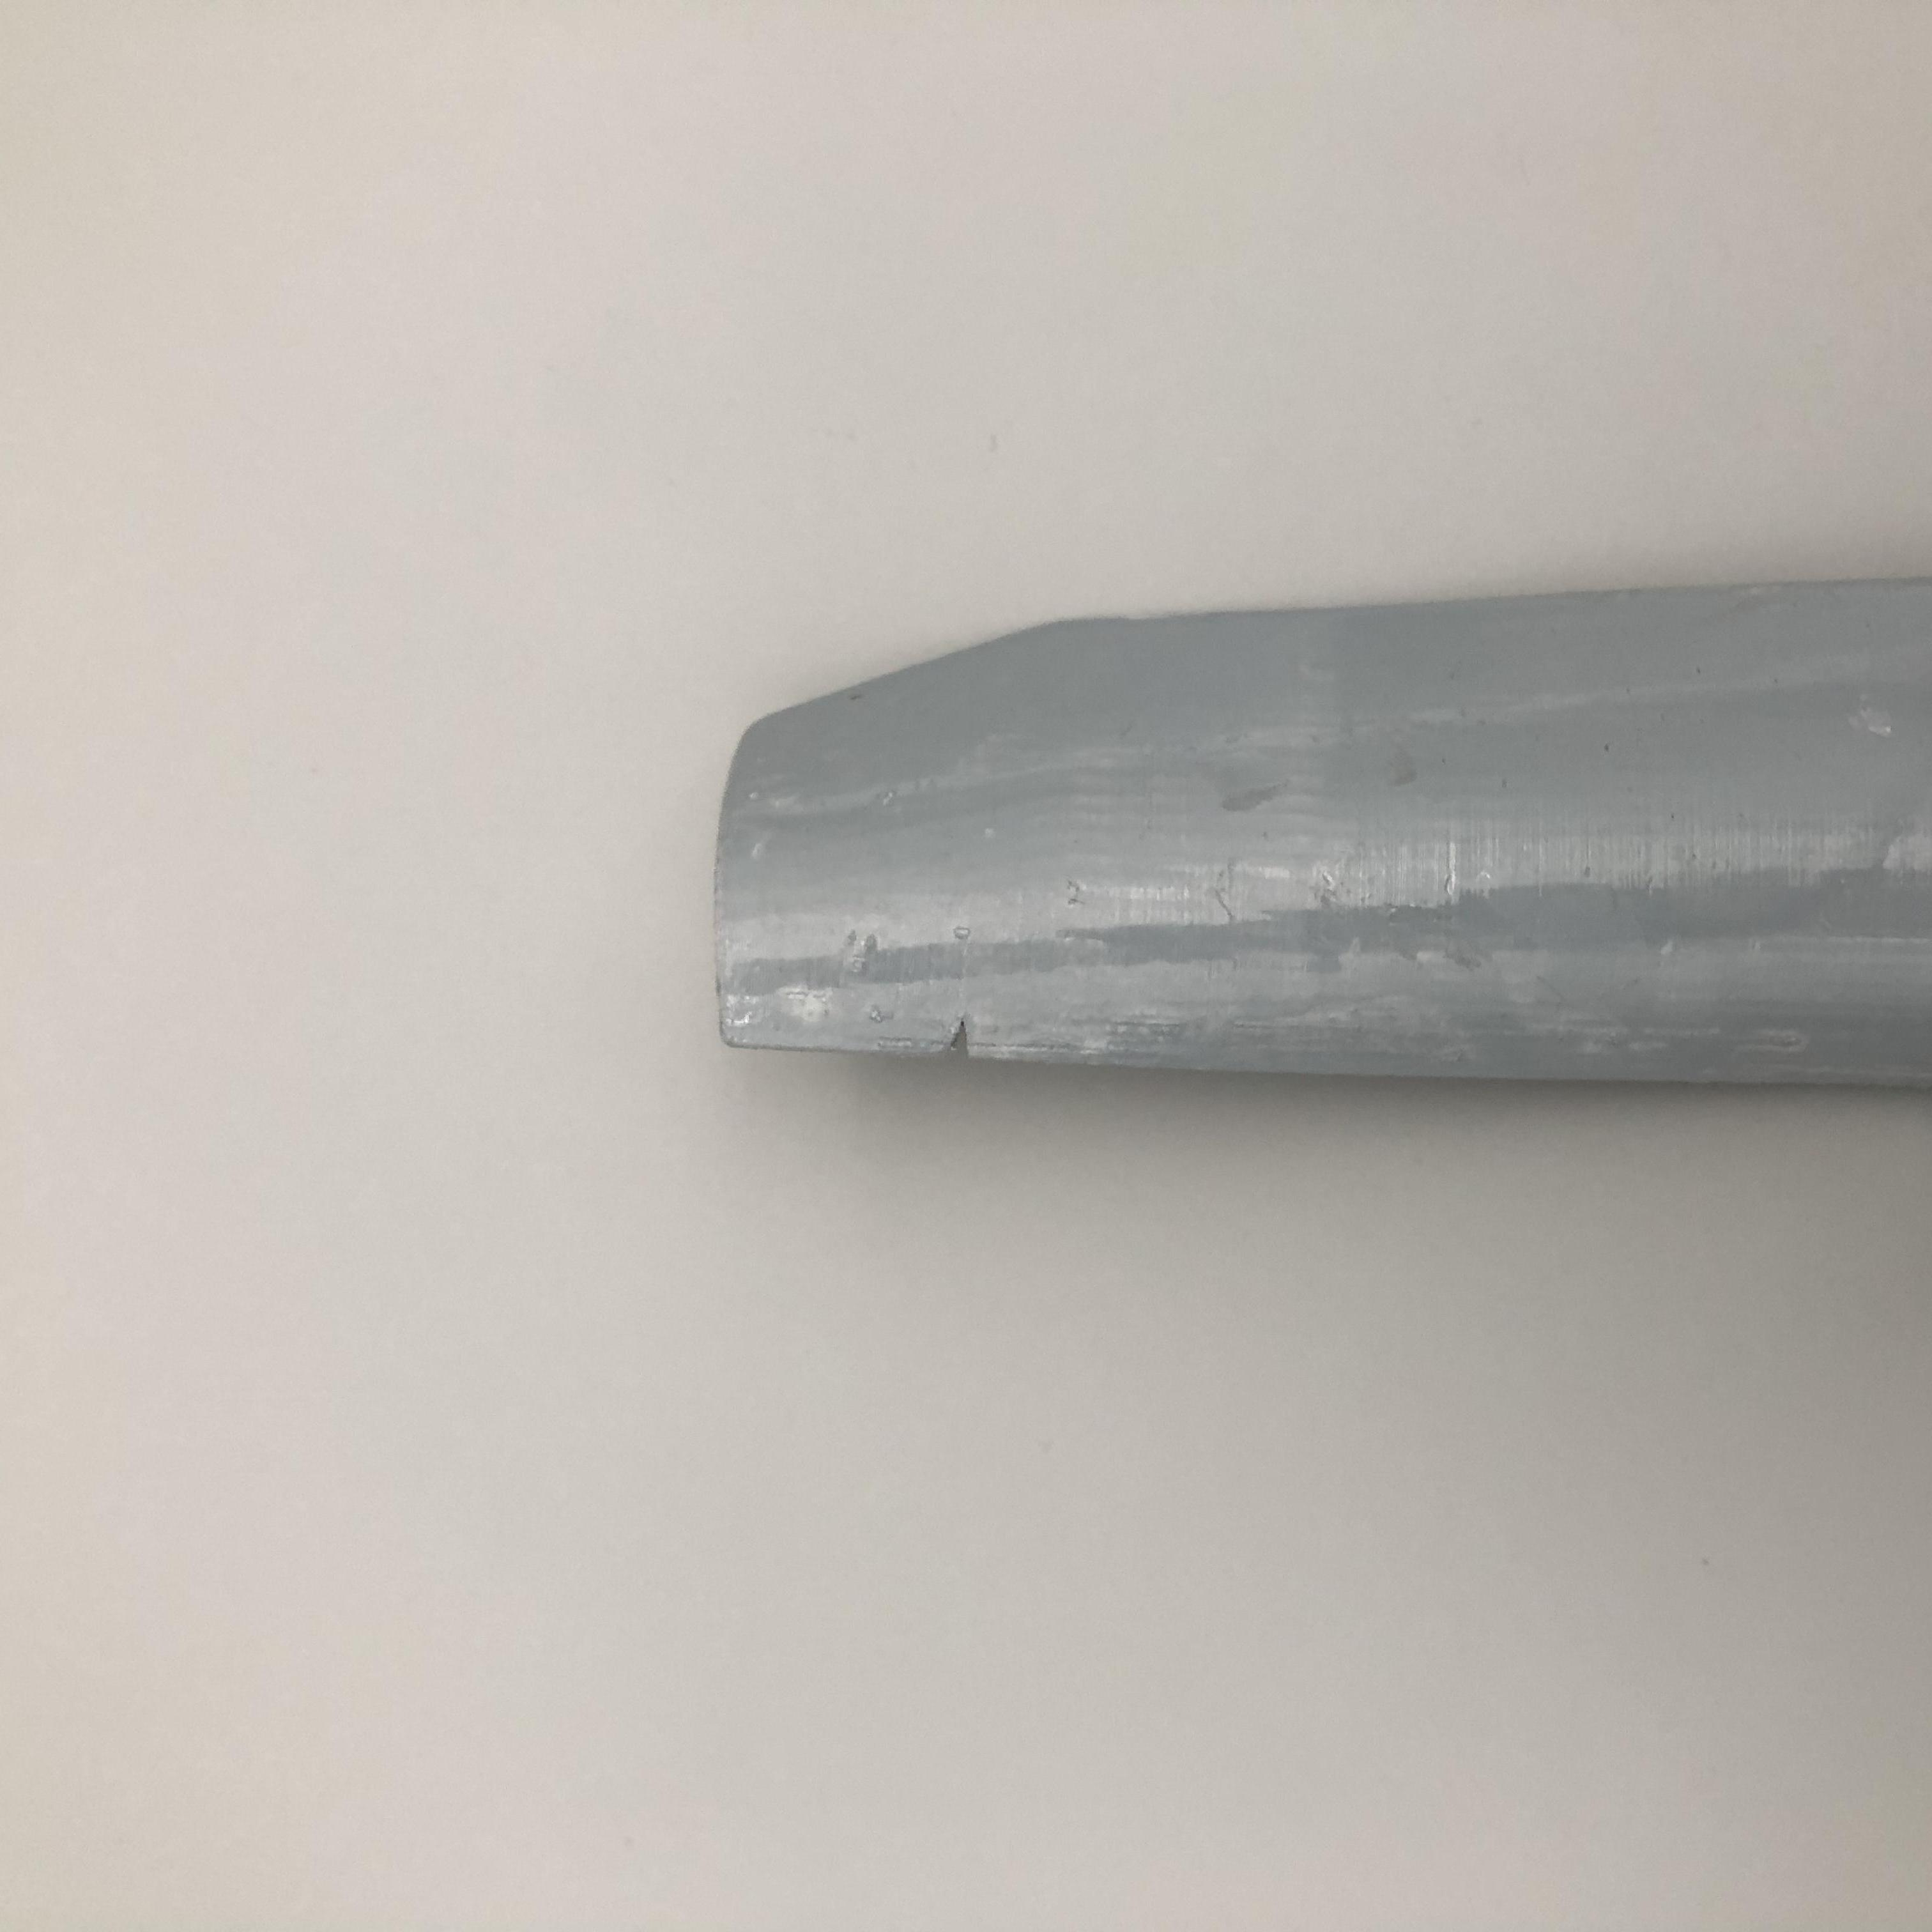groove: (947, 1019, 991, 1053)
